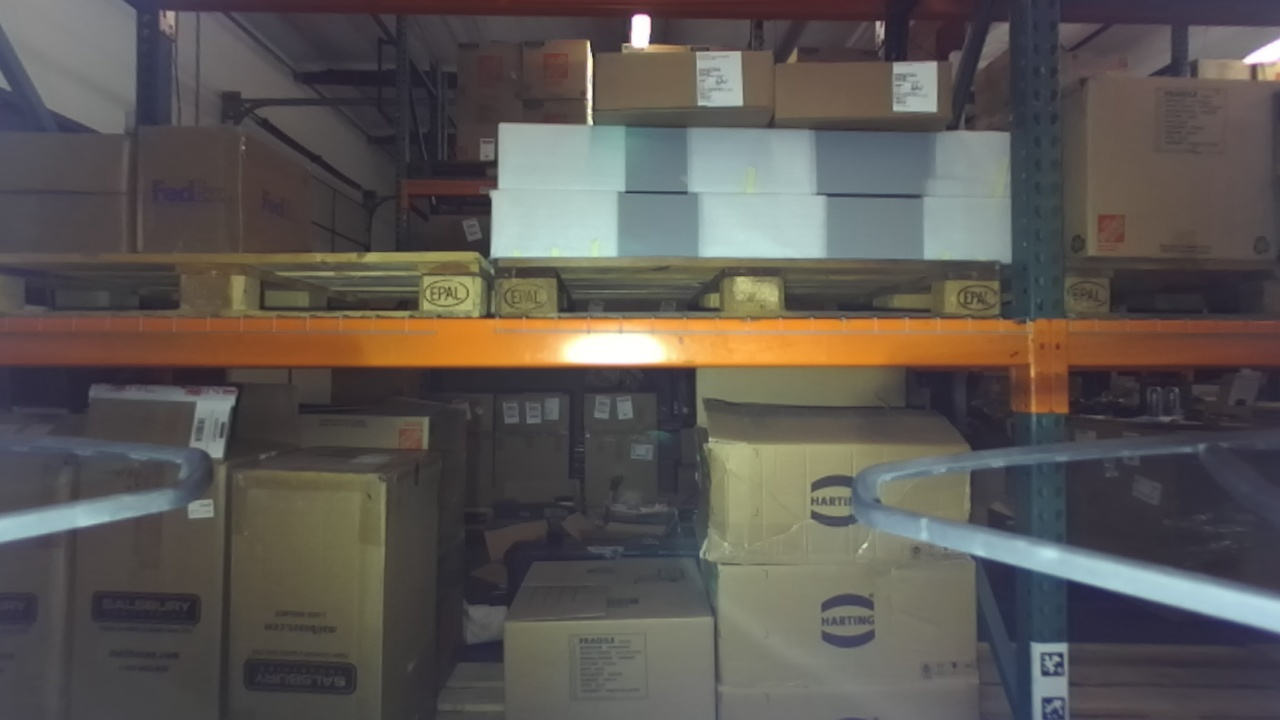box: (220, 444, 440, 720), (73, 371, 248, 717), (690, 388, 1000, 564), (697, 555, 984, 720), (1057, 58, 1270, 277), (488, 550, 747, 720), (131, 103, 275, 267), (584, 38, 794, 134), (755, 45, 980, 134), (1, 186, 156, 266), (3, 117, 150, 201)
